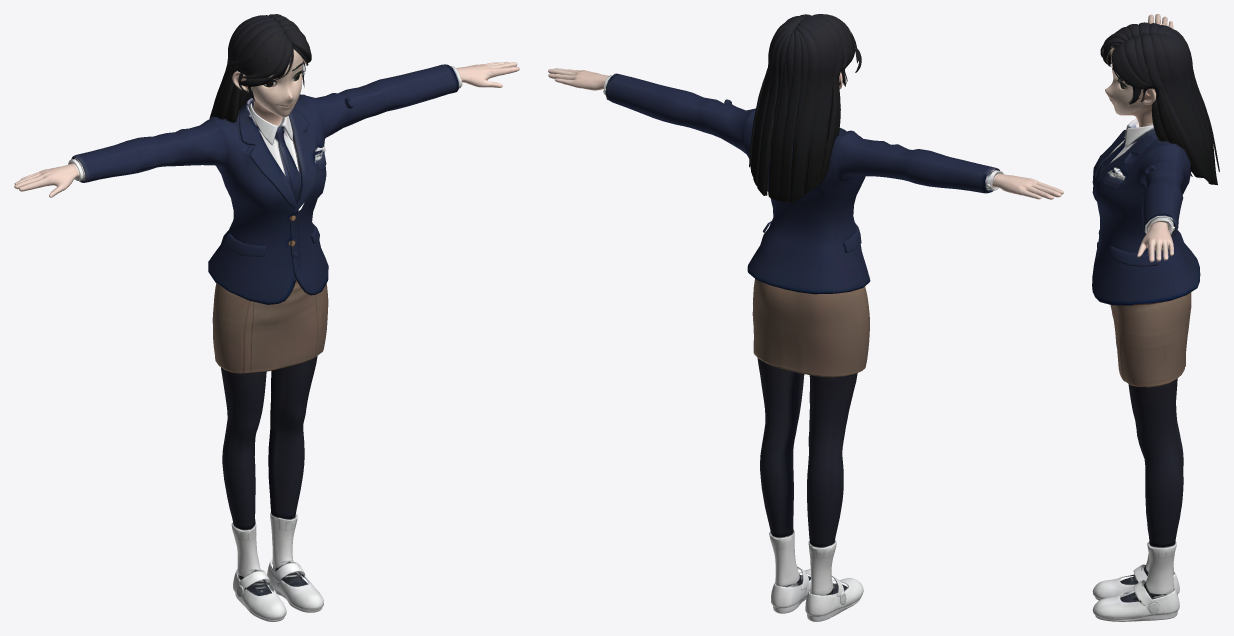
The model's file is toonstudio_school_uniform.glb.
3 views of the same model, side by side, from view 1: azimuth 30°, elevation 25°; view 2: azimuth 150°, elevation 25°; view 3: azimuth 270°, elevation 25° (orthographic).
Parts seen in each view (by area): view 1: tripo_783a7e58_6c58_4f9b_b86b_075a04cd9951; view 2: tripo_783a7e58_6c58_4f9b_b86b_075a04cd9951; view 3: tripo_783a7e58_6c58_4f9b_b86b_075a04cd9951.
Boxes of the visible parts, x1,y1,x2,y2 form: tripo_783a7e58_6c58_4f9b_b86b_075a04cd9951: (14, 14, 519, 621); tripo_783a7e58_6c58_4f9b_b86b_075a04cd9951: (548, 14, 1063, 621); tripo_783a7e58_6c58_4f9b_b86b_075a04cd9951: (1092, 14, 1219, 621).
Size of the model in its own units: 1.55 by 1.7 by 0.3397.
1 material, 1 textured.
